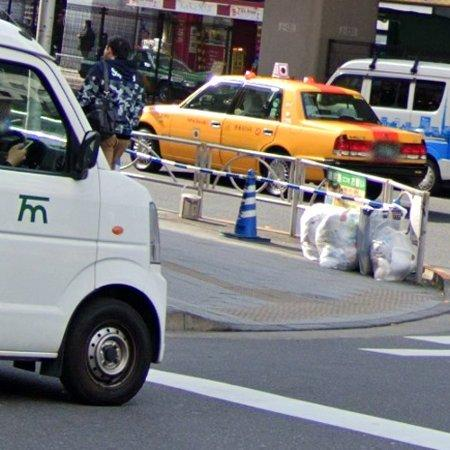taxis: (139, 76, 428, 184), (132, 137, 198, 165)
